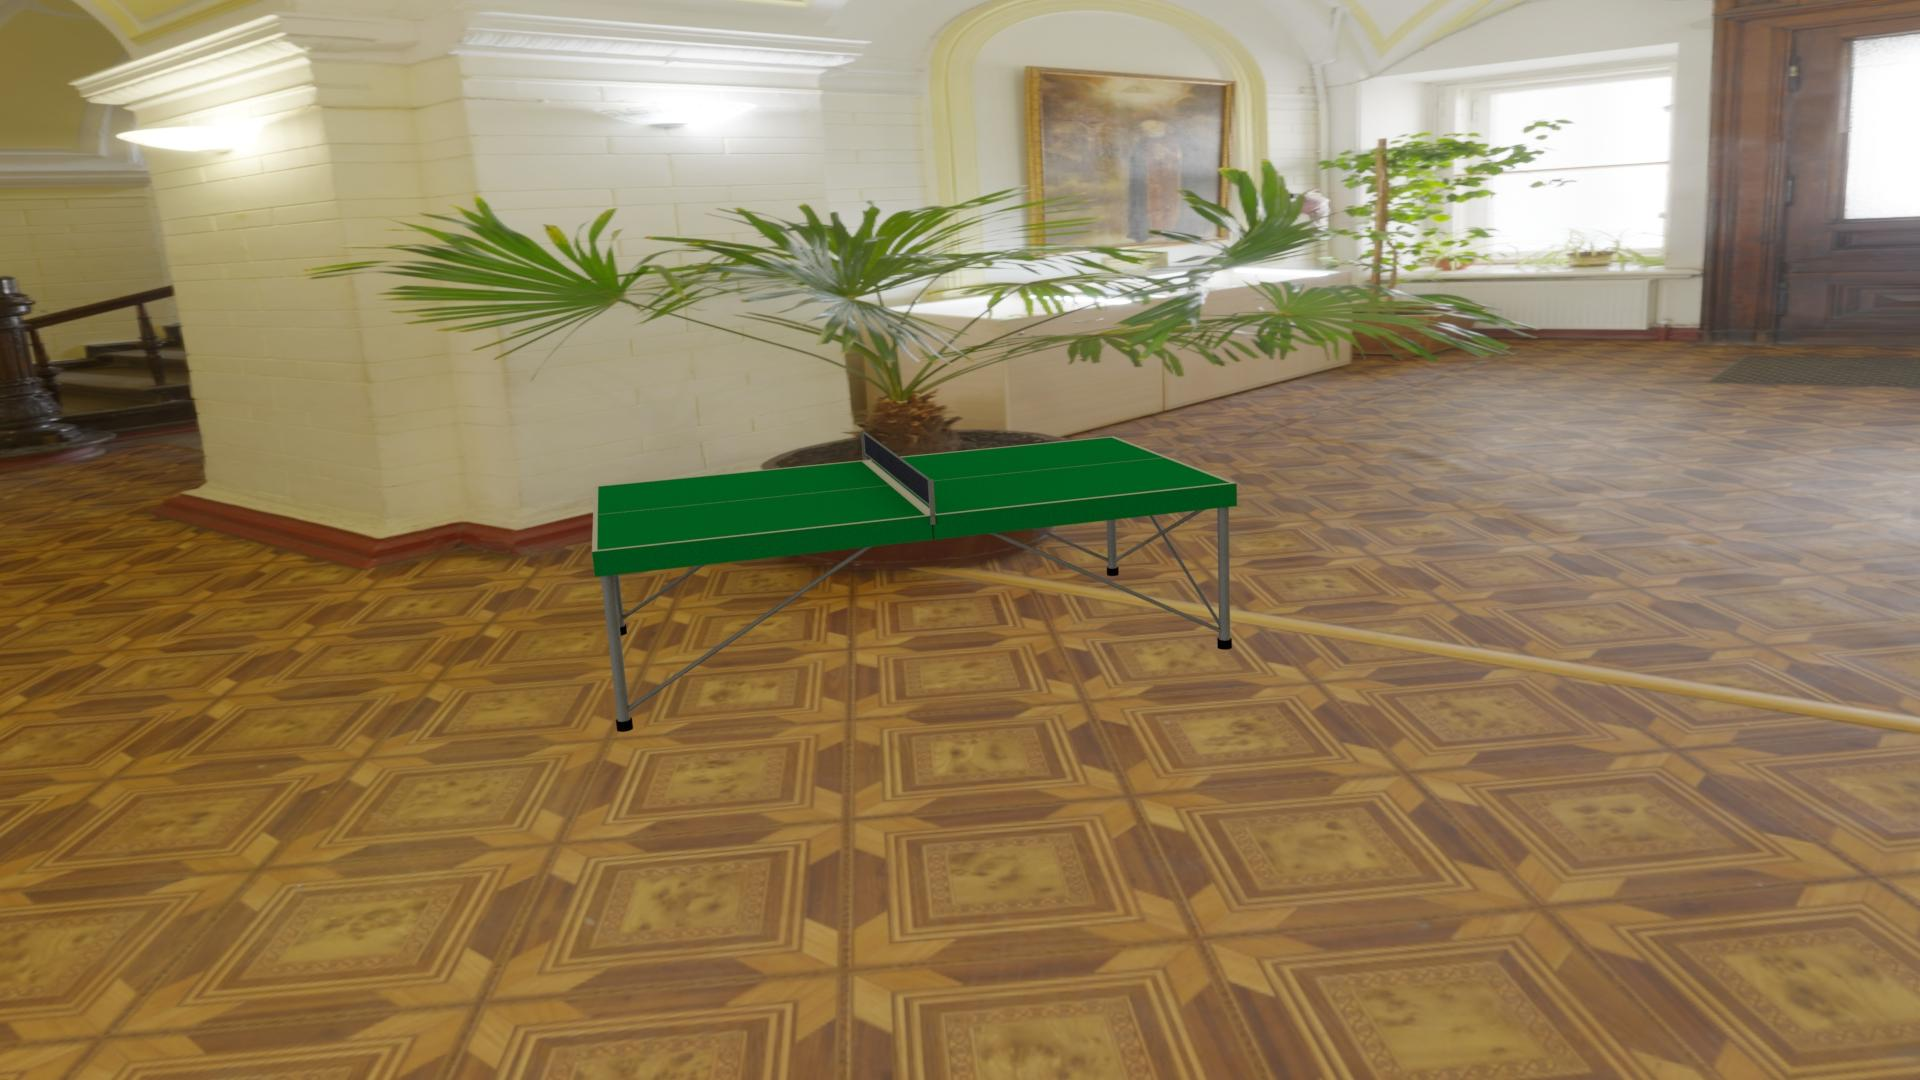table: (597, 438, 1230, 550)
